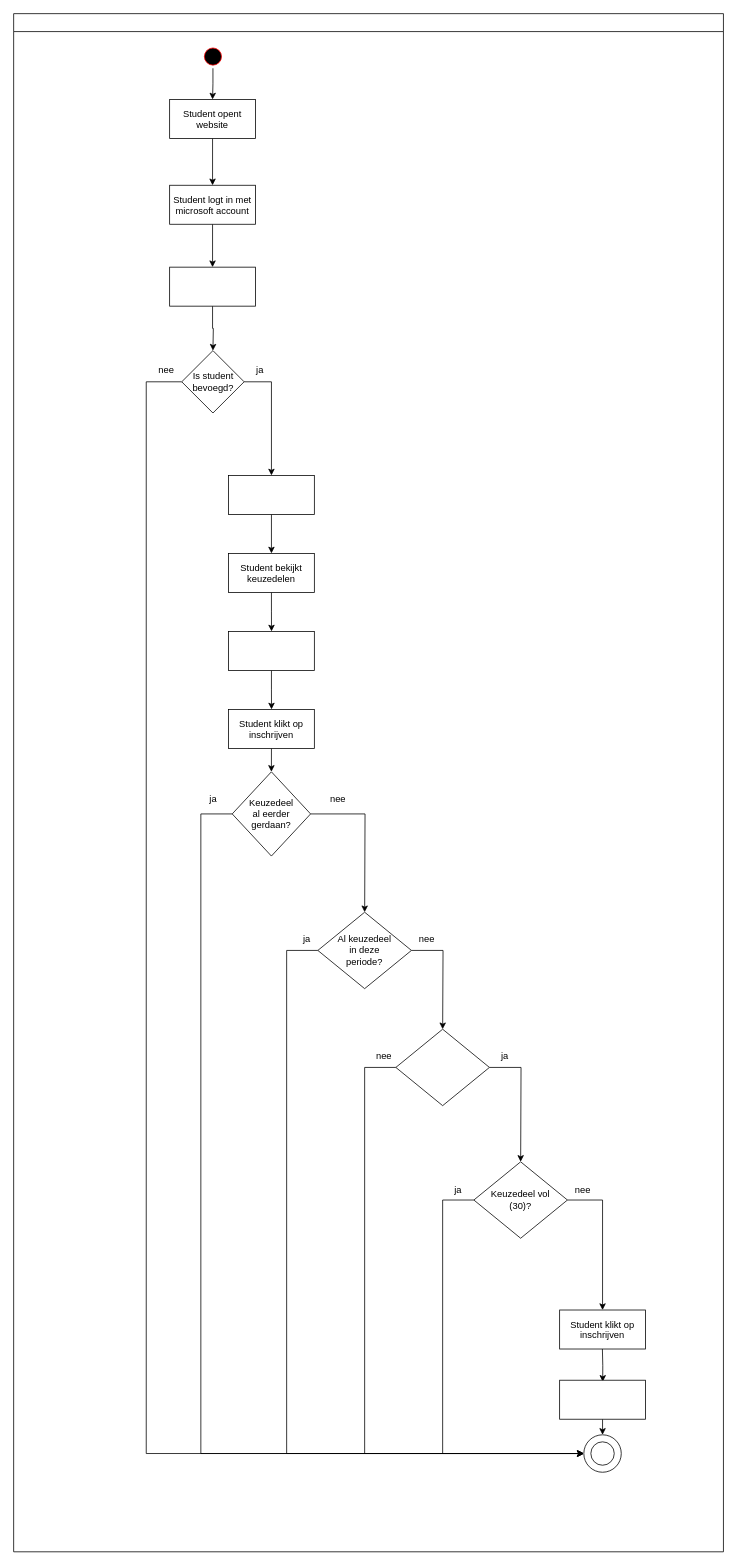
The diagram is 737 pixels wide and 1565 high, and some of its shapes have lost their labels. Here are the shapes that lost their labels. From the top down, the box of each, then its label:
(169, 266, 255, 306): Systeem controleert opleiding
(228, 475, 314, 514): Toon keuzedelen
(228, 631, 314, 670): Student kiest keuzedeel
(395, 1028, 489, 1106): Inschrijfperiode open?
(559, 1379, 645, 1419): Bevestiging tonen
